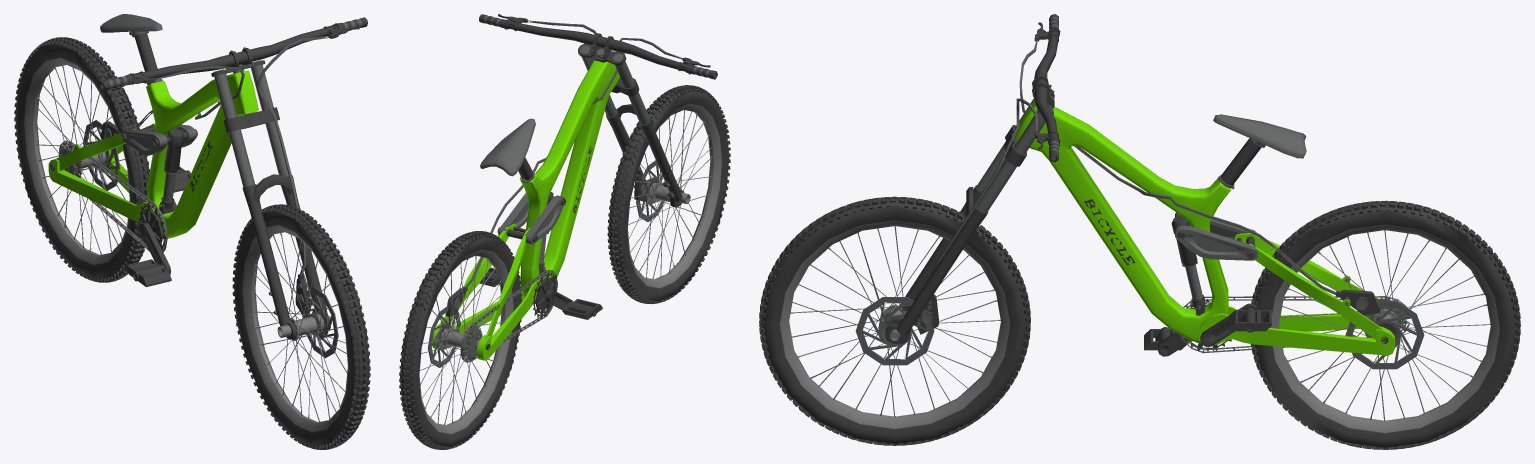
Rendered from downhill.glb.
3 renders of one model, left to right at view 1: azimuth 30°, elevation 25°; view 2: azimuth 150°, elevation 25°; view 3: azimuth 270°, elevation 25°, orthographic. The views are drawn at different scales.
Visible parts, largest first — view 1: Steer_Textures_0, Wheel_F_Textures_0, Body_Mat Body_0, Wheel_B_Textures_0, Wheel_F_Mat Wheel_0, Wheel_B_Mat Wheel_0, Body_Textures_0, Pedal_Textures_0, Pedal_R_Textures_0; view 2: Body_Mat Body_0, Wheel_B_Textures_0, Wheel_F_Textures_0, Steer_Textures_0, Body_Textures_0, Wheel_F_Mat Wheel_0, Wheel_B_Mat Wheel_0, Pedal_Textures_0, Pedal_R_Textures_0; view 3: Body_Mat Body_0, Wheel_F_Textures_0, Wheel_B_Textures_0, Wheel_F_Mat Wheel_0, Steer_Textures_0, Wheel_B_Mat Wheel_0, Body_Textures_0, Pedal_Textures_0, Pedal_L_Textures_0.
Boxes of the visible parts, bbox=[...] form: Steer_Textures_0: bbox=[100, 17, 367, 339]; Wheel_F_Textures_0: bbox=[232, 204, 370, 449]; Body_Mat Body_0: bbox=[48, 70, 258, 238]; Wheel_B_Textures_0: bbox=[14, 37, 149, 282]; Wheel_F_Mat Wheel_0: bbox=[242, 225, 348, 432]; Wheel_B_Mat Wheel_0: bbox=[24, 58, 130, 264]; Body_Textures_0: bbox=[50, 14, 311, 318]; Pedal_Textures_0: bbox=[138, 200, 176, 274]; Pedal_R_Textures_0: bbox=[126, 259, 171, 286]; Body_Mat Body_0: bbox=[432, 60, 619, 360]; Wheel_B_Textures_0: bbox=[399, 231, 522, 449]; Wheel_F_Textures_0: bbox=[607, 85, 730, 304]; Steer_Textures_0: bbox=[465, 14, 717, 287]; Body_Textures_0: bbox=[445, 118, 648, 362]; Wheel_F_Mat Wheel_0: bbox=[627, 103, 721, 288]; Wheel_B_Mat Wheel_0: bbox=[419, 249, 513, 434]; Pedal_Textures_0: bbox=[498, 271, 572, 318]; Pedal_R_Textures_0: bbox=[562, 299, 602, 319]; Body_Mat Body_0: bbox=[1014, 101, 1395, 355]; Wheel_F_Textures_0: bbox=[759, 196, 1030, 445]; Wheel_B_Textures_0: bbox=[1250, 200, 1520, 449]; Wheel_F_Mat Wheel_0: bbox=[780, 220, 1010, 428]; Steer_Textures_0: bbox=[885, 14, 1336, 343]; Wheel_B_Mat Wheel_0: bbox=[1270, 224, 1499, 432]; Body_Textures_0: bbox=[917, 114, 1409, 353]; Pedal_Textures_0: bbox=[1157, 299, 1258, 356]; Pedal_L_Textures_0: bbox=[1229, 307, 1271, 332].
Bounding box in the file's own units: 0.5852 × 0.7199 × 1.35.
Materials: 3 (1 with a texture image).
